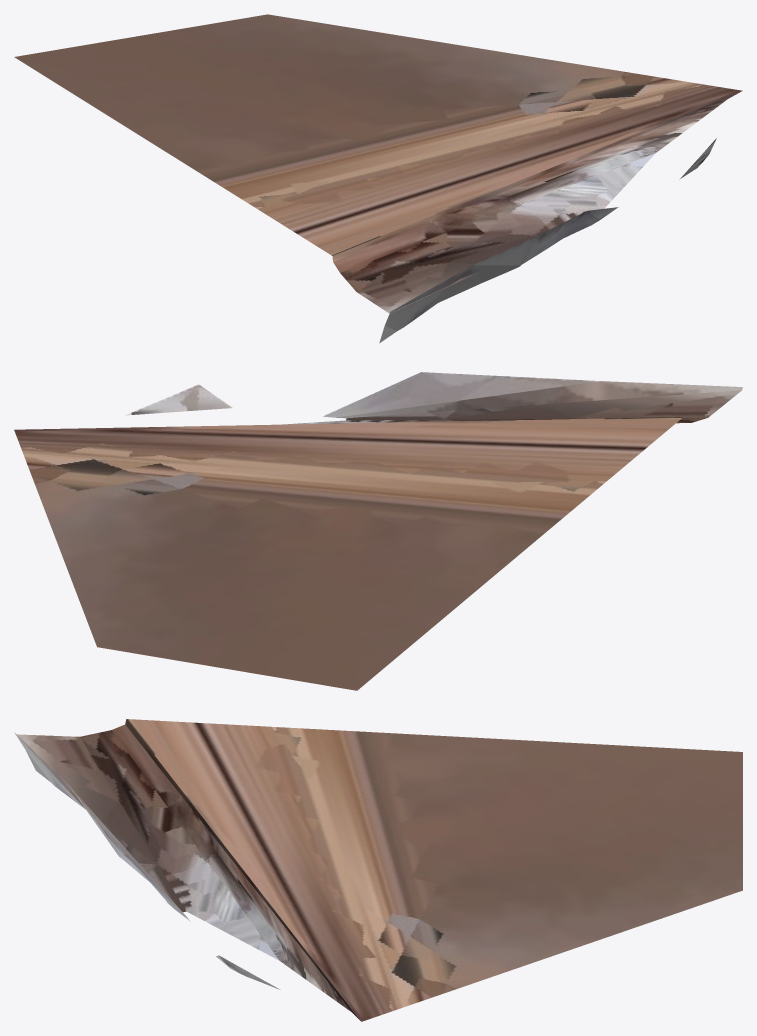
3 renders of one model, top to bottom at view 1: azimuth 30°, elevation 25°; view 2: azimuth 150°, elevation 25°; view 3: azimuth 270°, elevation 25°, orthographic. The views are drawn at different scales.
Bounding box in the file's own units: 6.44 × 0.6172 × 7.89.
Materials: 1 (1 with a texture image).
